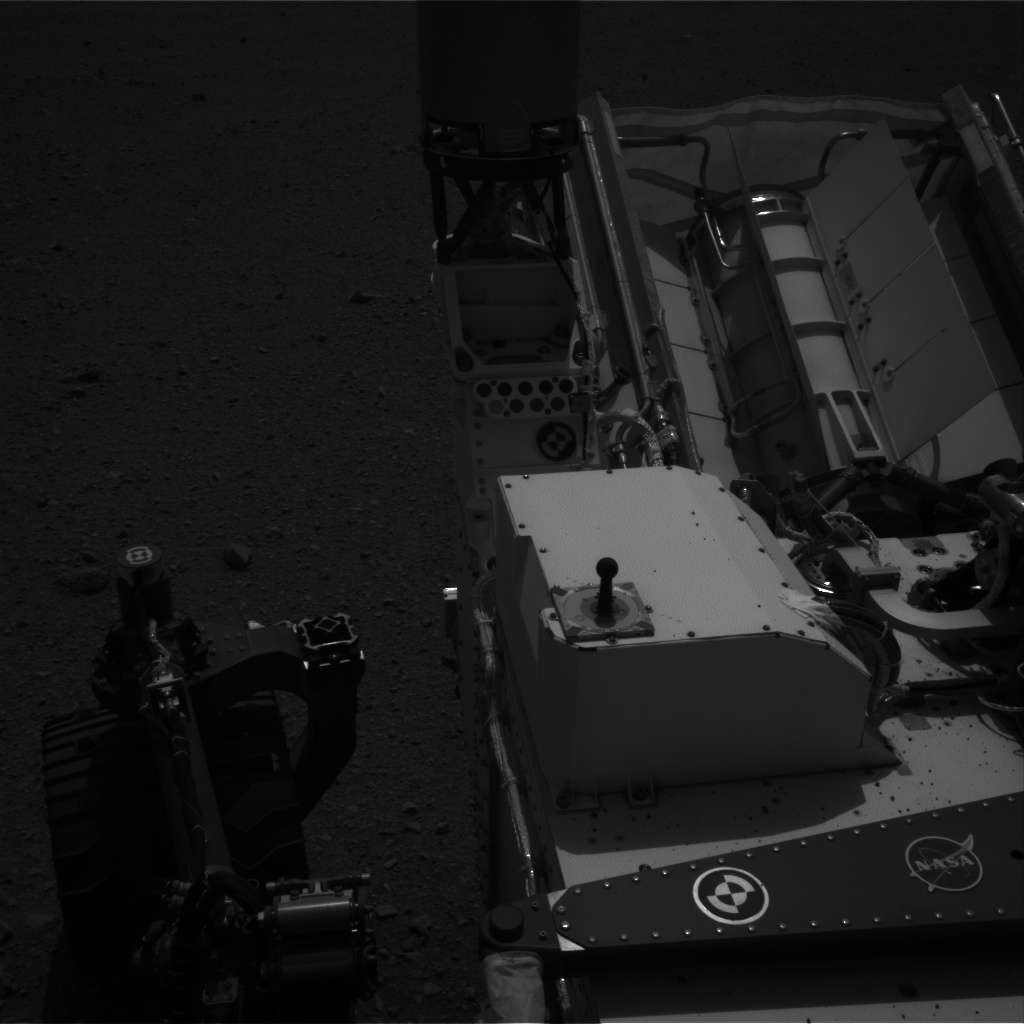soil: (601, 20, 983, 65)
